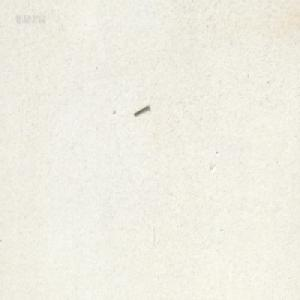Bolt: (133, 102, 149, 115)
